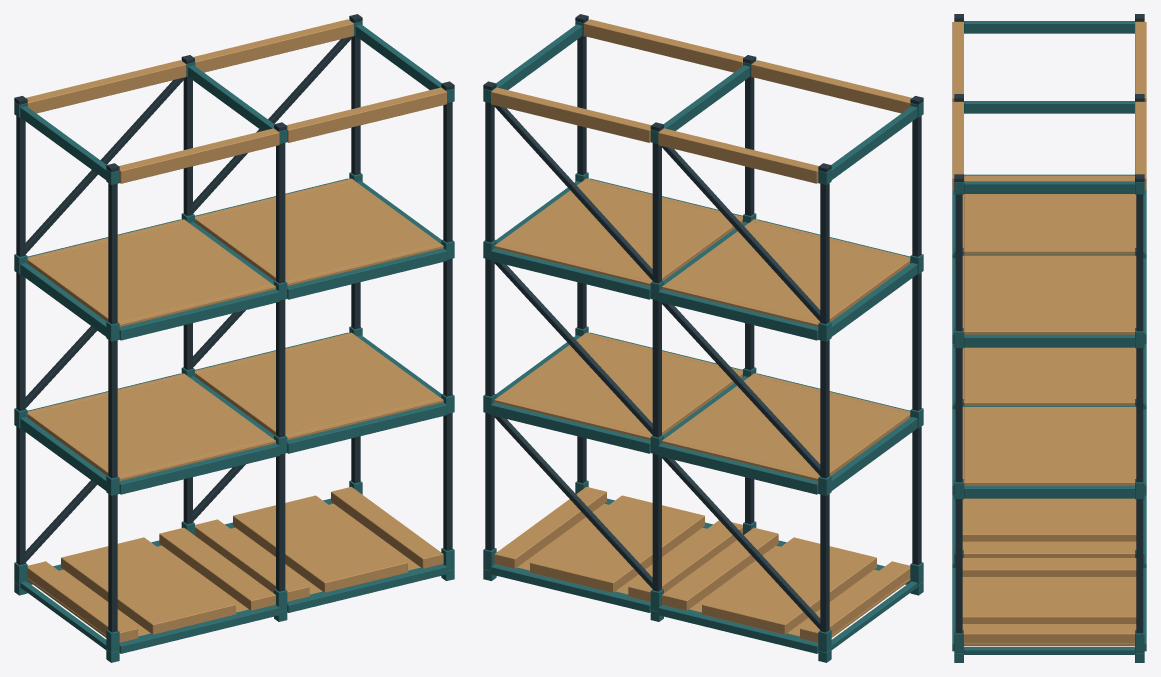
Rendered from rack-standard.glb.
The picture shows the model from 3 angles, left to right: view 1: azimuth 30°, elevation 25°; view 2: azimuth 150°, elevation 25°; view 3: azimuth 270°, elevation 25°; orthographic projection.
Parts seen in each view (by area): view 1: rack-standard; view 2: rack-standard; view 3: rack-standard.
Boxes of the visible parts, left/top/right/bottom form: rack-standard: left=14, top=14, right=454, bottom=662; rack-standard: left=483, top=14, right=923, bottom=662; rack-standard: left=952, top=14, right=1146, bottom=662.
Size of the model in its own units: 2.8 by 3.85 by 1.4.
